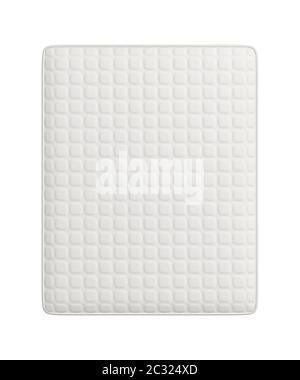Bed-Mattress: (39, 42, 261, 323)
